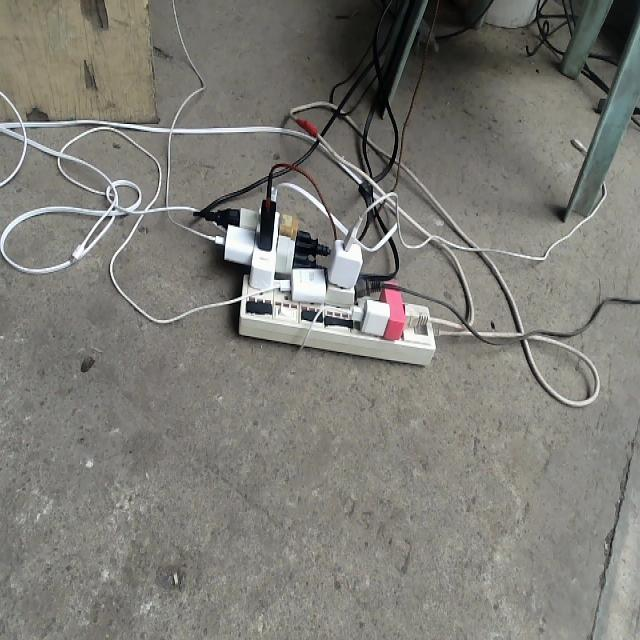-: (212, 180, 436, 367)
